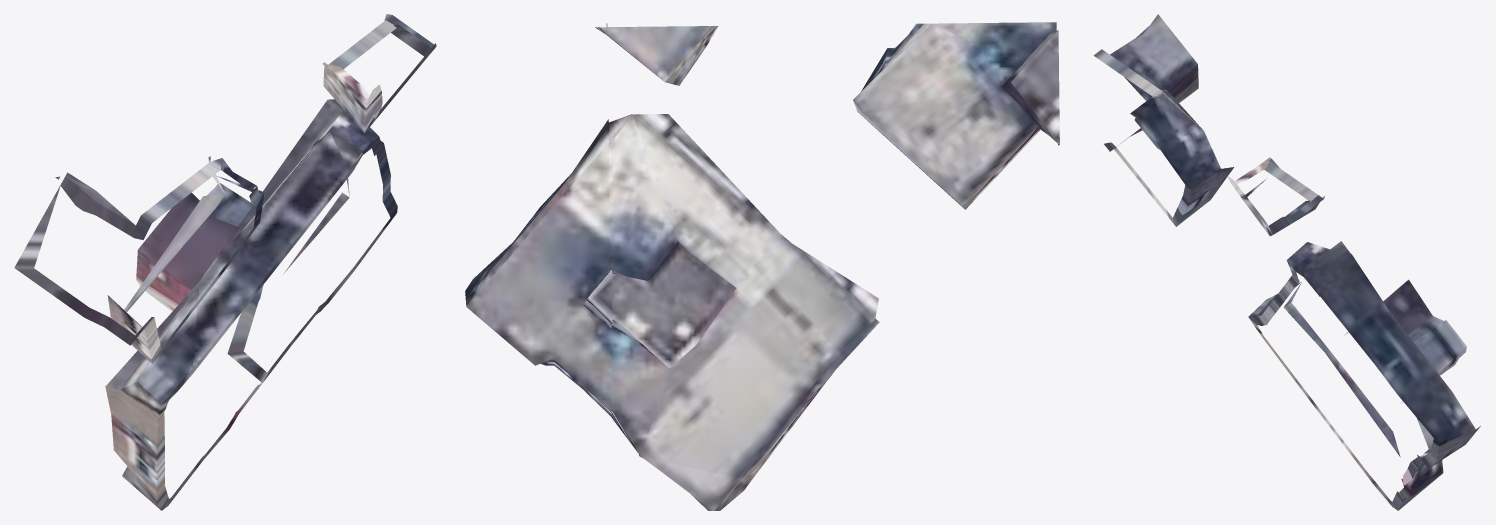
The picture shows the model from 3 angles, left to right: view 1: azimuth 30°, elevation 25°; view 2: azimuth 150°, elevation 25°; view 3: azimuth 270°, elevation 25°; orthographic projection. The views are drawn at different scales.
Size of the model in its own units: 41.26 by 37.3 by 32.84.
Materials: 1 (1 with a texture image).
